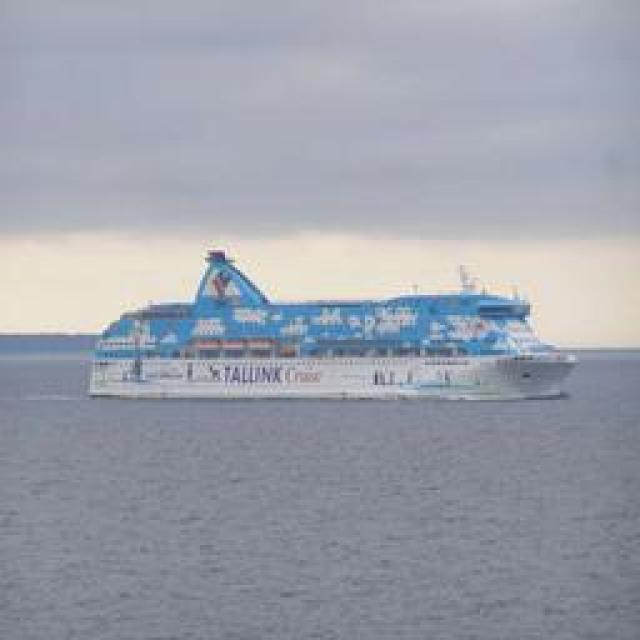ship: (94, 244, 578, 406)
